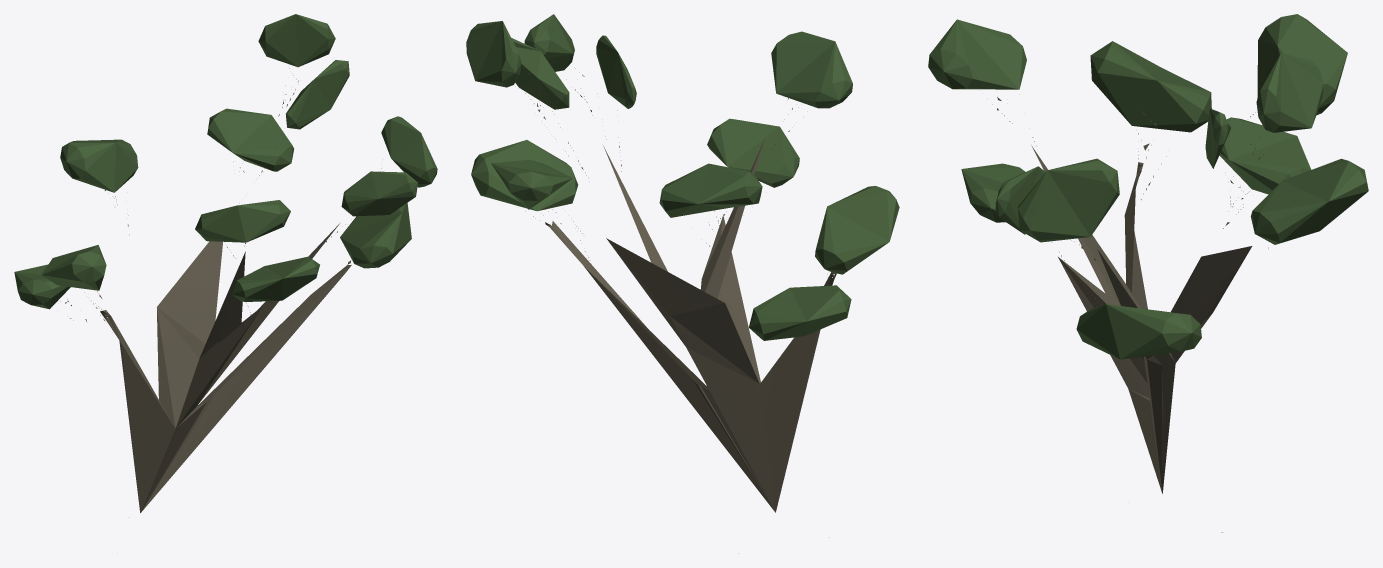
File: CheneVert_2_Niveau2.fbx
3 renders of one model, left to right at view 1: azimuth 30°, elevation 25°; view 2: azimuth 150°, elevation 25°; view 3: azimuth 270°, elevation 25°, orthographic. The views are drawn at different scales.
Parts seen in each view (by area): view 1: CheneVert_2_Niveau2_Jeu; view 2: CheneVert_2_Niveau2_Jeu; view 3: CheneVert_2_Niveau2_Jeu.
Boxes of the visible parts, bbox=[...] form: CheneVert_2_Niveau2_Jeu: bbox=[14, 14, 437, 512]; CheneVert_2_Niveau2_Jeu: bbox=[466, 14, 899, 512]; CheneVert_2_Niveau2_Jeu: bbox=[928, 14, 1368, 532].
Size of the model in its own units: 420 by 484 by 319.
